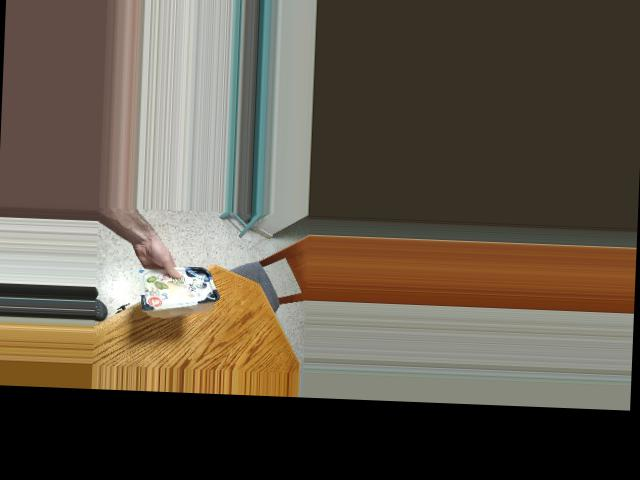cheese: (141, 256, 216, 315)
